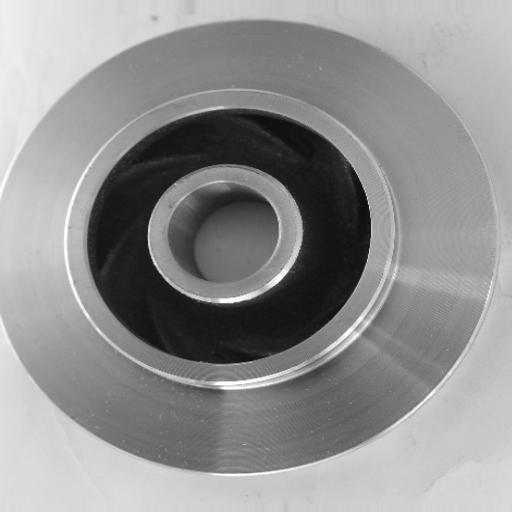polished_casting: (2, 19, 499, 476)
